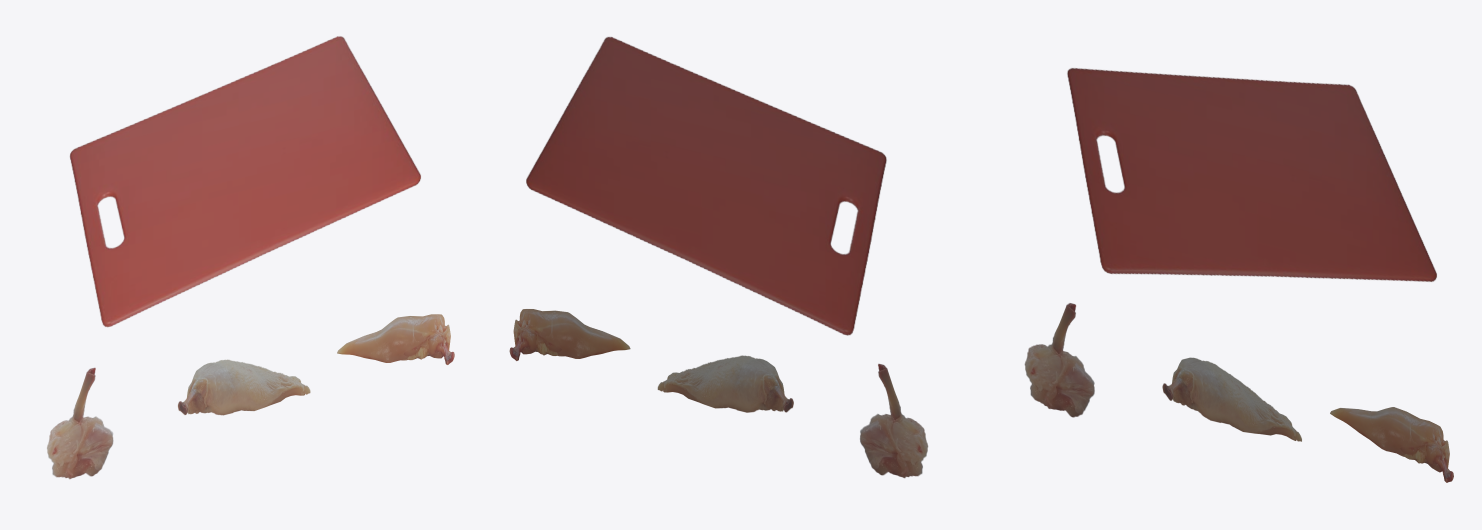
Rendered from Game_Chicken.glb.
3 views of the same model, side by side, from view 1: azimuth 30°, elevation 25°; view 2: azimuth 150°, elevation 25°; view 3: azimuth 330°, elevation 25° (orthographic). The views are drawn at different scales.
Parts seen in each view (by area): view 1: CuttingBoard, Breast, Leg, Lollipop; view 2: CuttingBoard, Breast, Leg, Lollipop; view 3: CuttingBoard, Breast, Leg, Lollipop.
Boxes of the visible parts, x1,y1,x2,y2 form: CuttingBoard: [69, 36, 420, 327]; Breast: [178, 359, 310, 415]; Leg: [337, 314, 454, 364]; Lollipop: [47, 367, 113, 478]; CuttingBoard: [526, 37, 886, 335]; Breast: [657, 355, 793, 412]; Leg: [509, 309, 630, 360]; Lollipop: [860, 363, 928, 478]; CuttingBoard: [1067, 68, 1436, 281]; Breast: [1162, 357, 1301, 441]; Leg: [1330, 407, 1453, 482]; Lollipop: [1024, 303, 1094, 417].
Bounding box in the file's own units: 4.47 × 3.7 × 0.1496.
4 materials, 4 textured.
